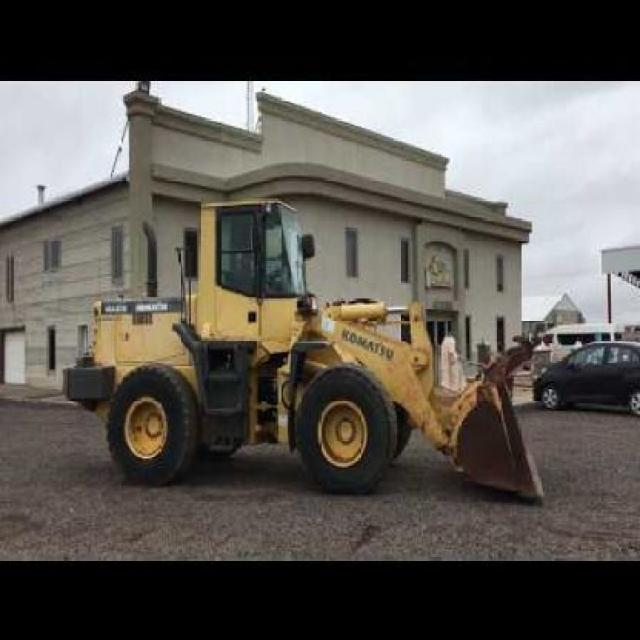buldozerpayloadergrader: (60, 186, 549, 516)
